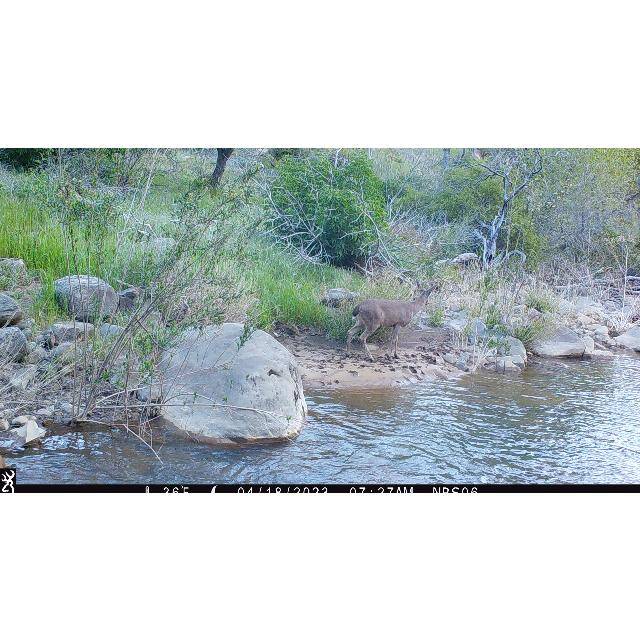animals: (346, 278, 438, 362)
